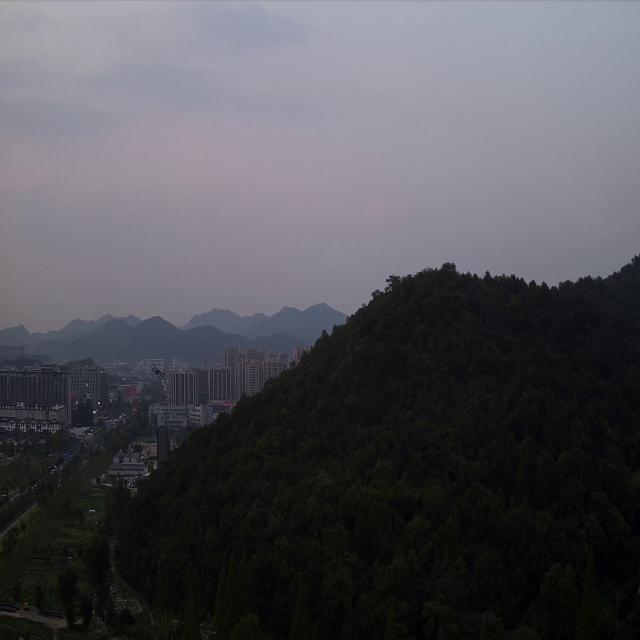UAV: (150, 364, 164, 377)
